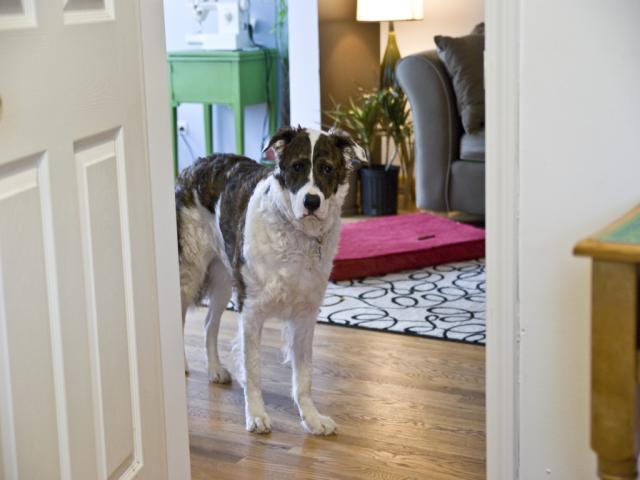Dog: (174, 125, 367, 437)
